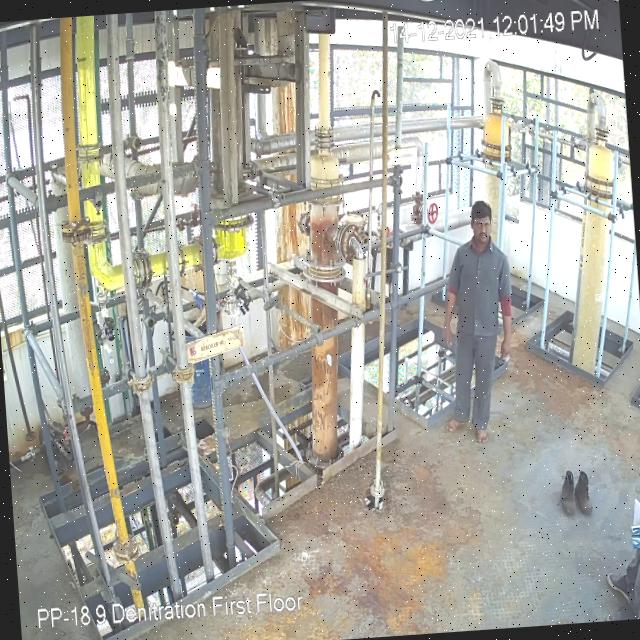boots: (556, 468, 582, 518), (574, 470, 595, 514)
no-boots: (442, 417, 468, 432), (472, 427, 488, 448)
